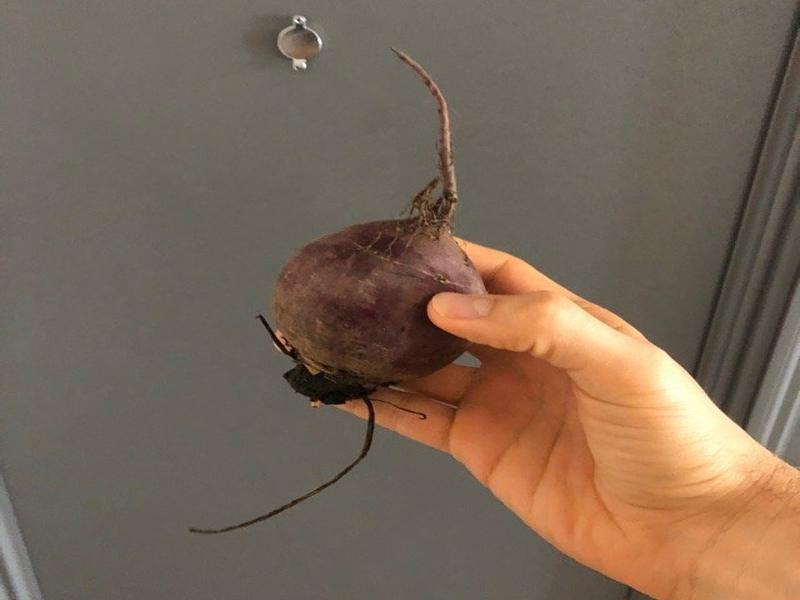Beet: (185, 49, 486, 533)
